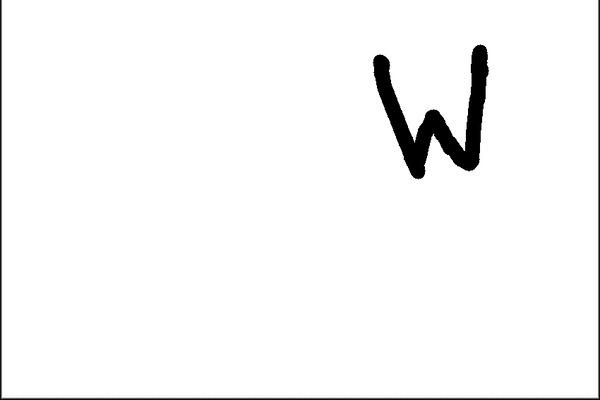w: (341, 30, 496, 180)
